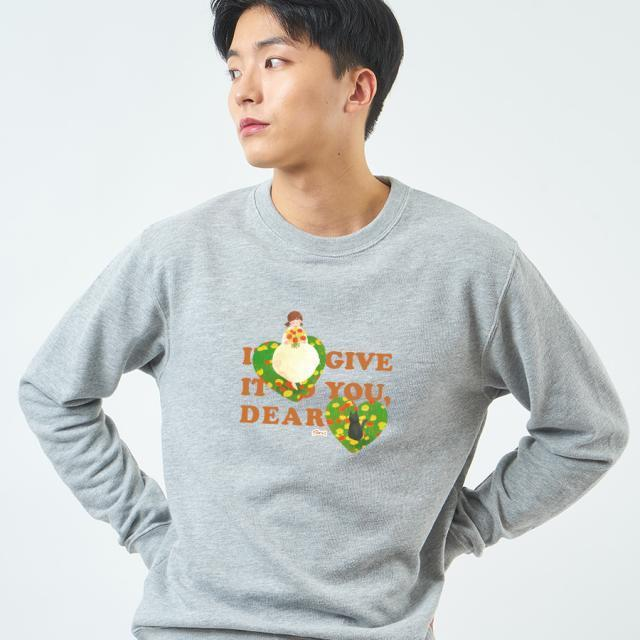sweater: (17, 176, 632, 640)
